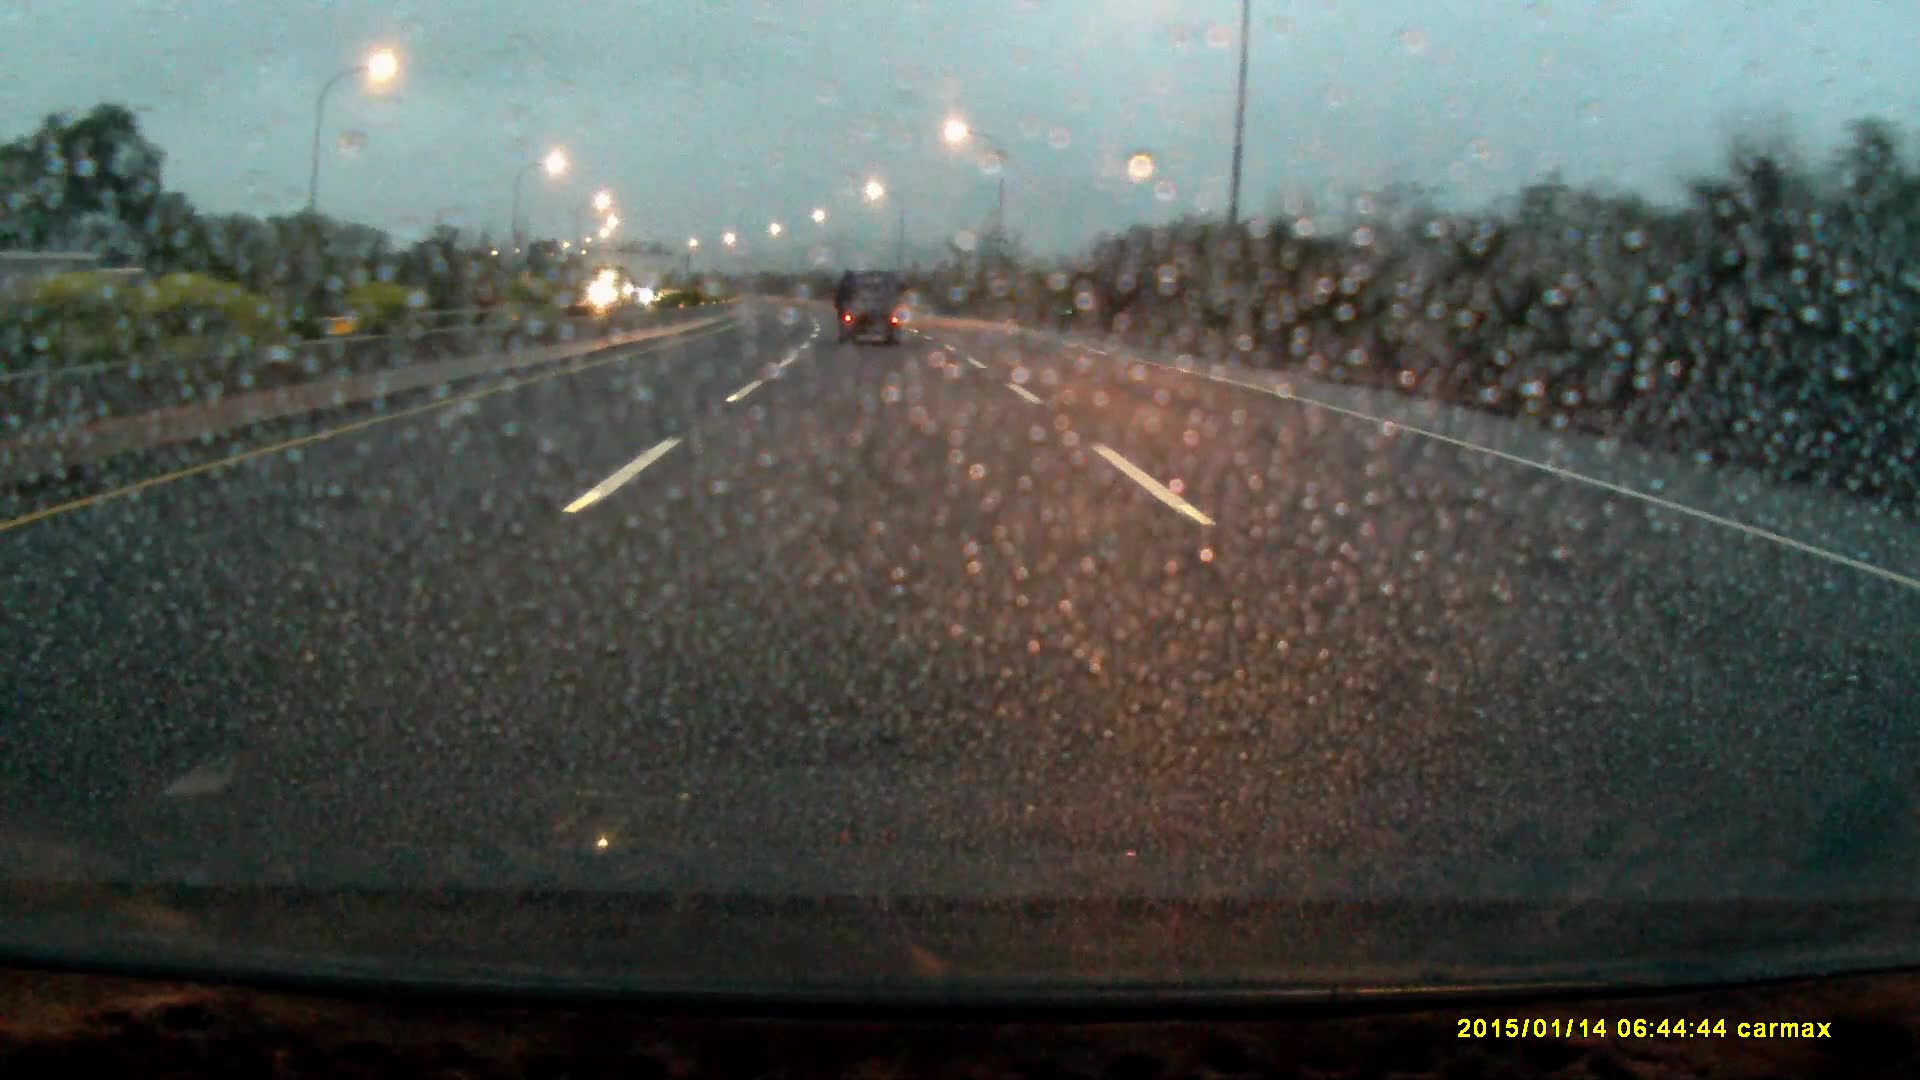vehicle: (837, 276, 907, 353)
